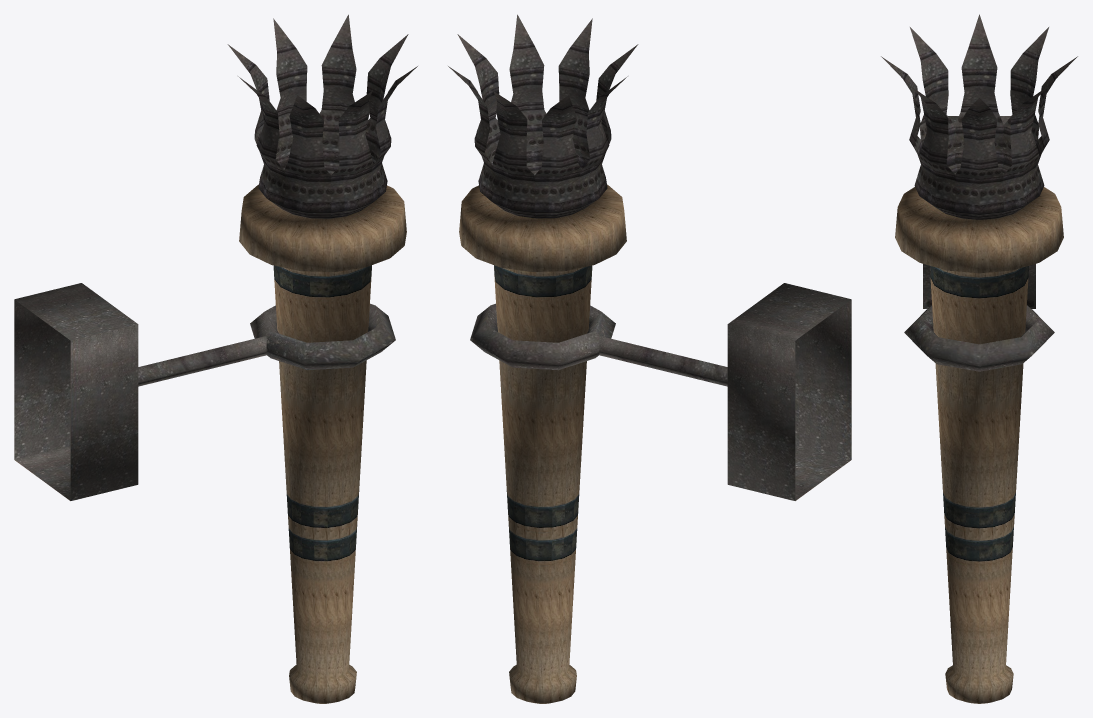
The model's file is wall-torch.fbx.
3 renders of one model, left to right at view 1: azimuth 30°, elevation 25°; view 2: azimuth 150°, elevation 25°; view 3: azimuth 270°, elevation 25°, orthographic.
Parts seen in each view (by area): view 1: antorcha_con_soporte; view 2: antorcha_con_soporte; view 3: antorcha_con_soporte.
Part boxes in pixels (bbox=[...]): antorcha_con_soporte: bbox=[14, 14, 417, 703]; antorcha_con_soporte: bbox=[448, 14, 851, 703]; antorcha_con_soporte: bbox=[881, 14, 1077, 703].
Size of the model in its own units: 5980 by 10000 by 2804.
Materials: 1 (1 with a texture image).
